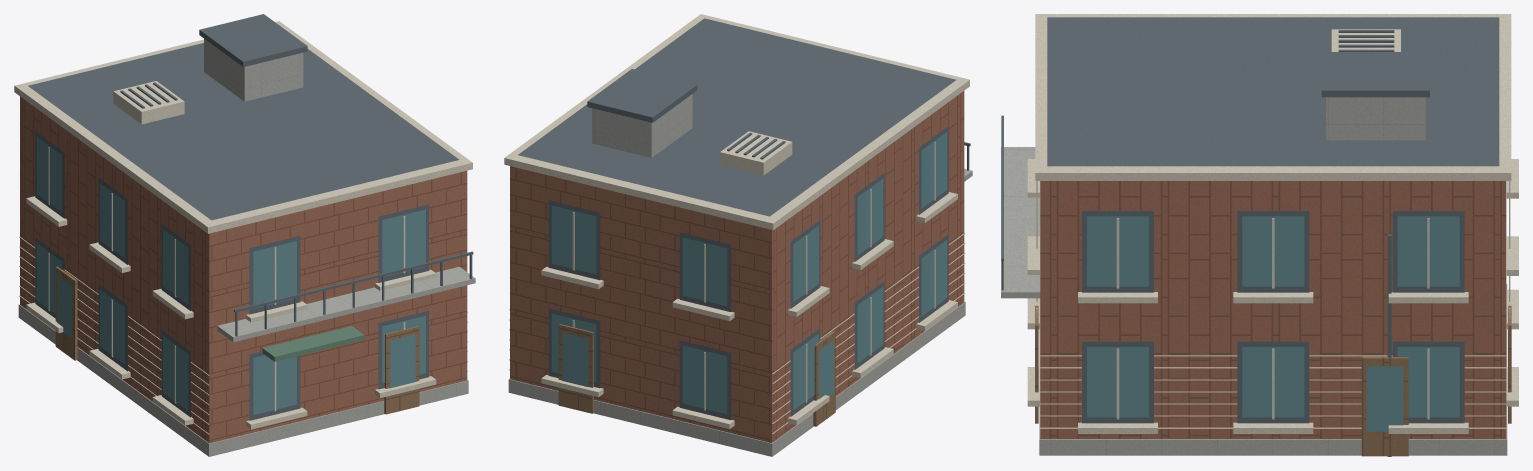
Rendered from q03-home-0.glb.
3 views of the same model, side by side, from view 1: azimuth 30°, elevation 25°; view 2: azimuth 150°, elevation 25°; view 3: azimuth 270°, elevation 25° (orthographic). The views are drawn at different scales.
Size of the model in its own units: 7.06 by 6.72 by 9.34.
Materials: 7 (6 with a texture image).
